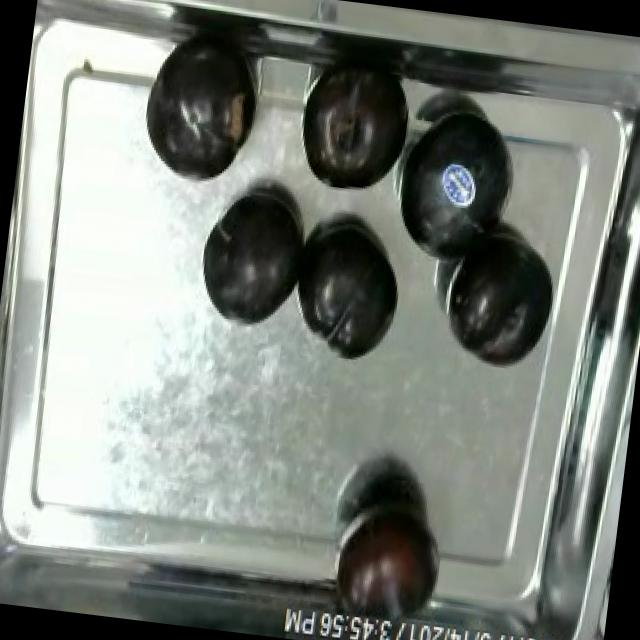Fruit: (382, 100, 524, 280), (130, 25, 268, 194), (282, 208, 414, 370), (317, 487, 455, 640), (188, 178, 318, 338), (285, 50, 414, 210), (436, 224, 568, 378)
